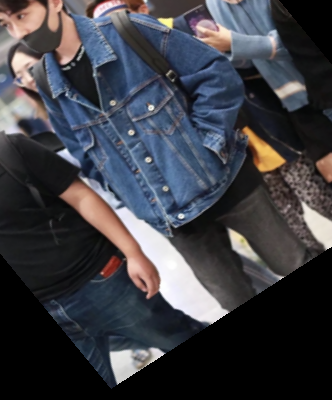mask_weared_incorrect: (1, 1, 83, 58)
